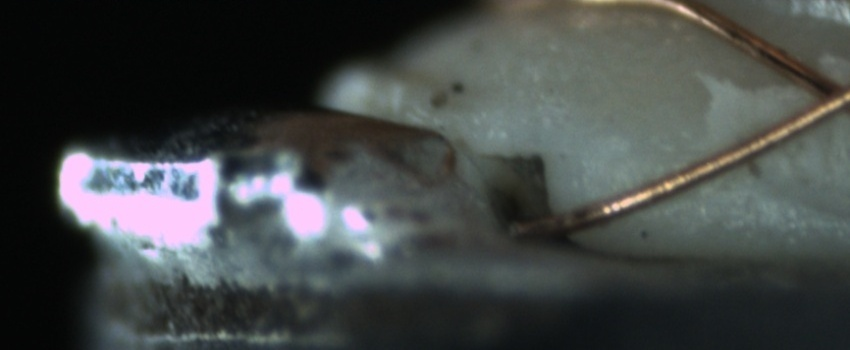CL: (790, 59, 850, 124)
